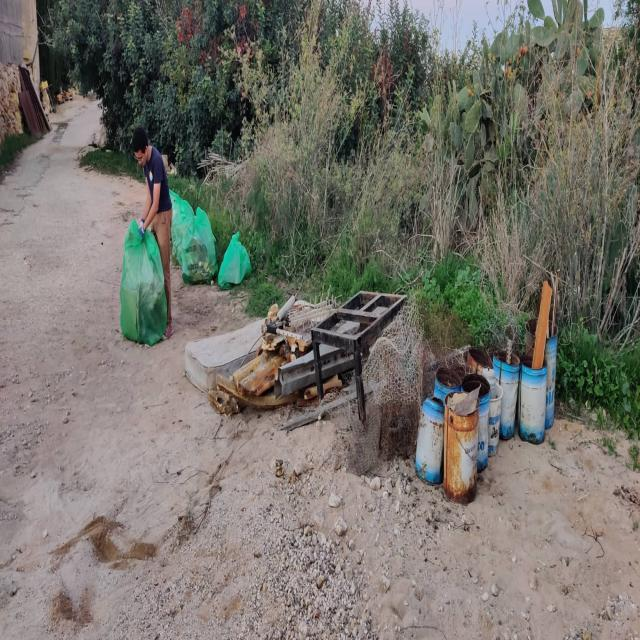Other litter: (279, 299, 425, 476), (211, 292, 341, 410), (312, 285, 409, 424), (185, 312, 266, 397), (444, 385, 480, 508), (413, 396, 445, 485), (493, 337, 520, 442), (519, 354, 548, 446), (463, 371, 488, 472), (18, 64, 50, 140), (531, 277, 553, 372), (545, 321, 558, 430), (489, 382, 503, 457), (433, 368, 461, 405), (465, 344, 494, 374), (551, 268, 561, 335), (525, 317, 537, 358)
Plastic bag - wrapper: (119, 218, 168, 347), (172, 207, 218, 283), (219, 229, 252, 288), (169, 190, 193, 220)
